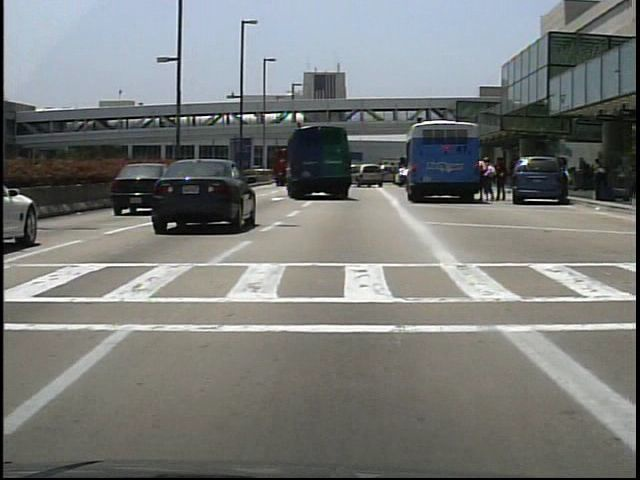person: (480, 157, 496, 203), (494, 159, 509, 203), (561, 163, 574, 202)
